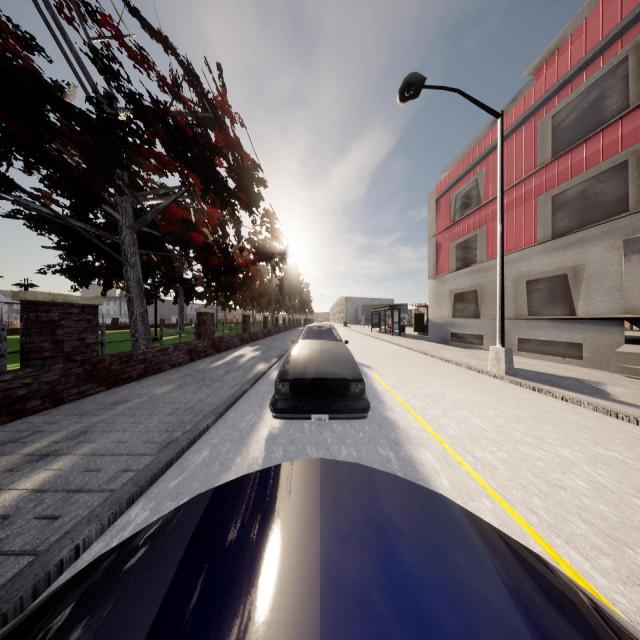Vehicle: (0, 457, 640, 640), (270, 324, 370, 419)
